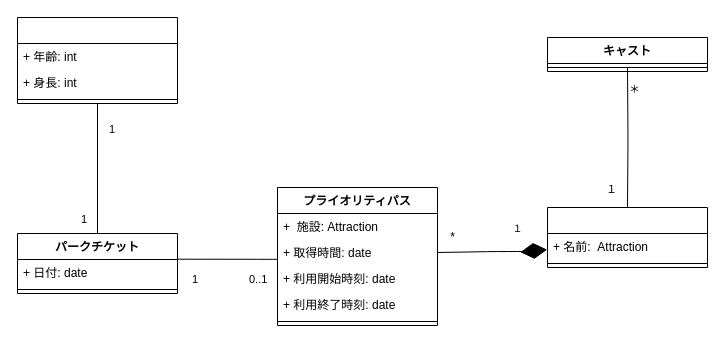
The diagram is 725 pixels wide and 343 high, and some of its shapes have lost their labels. Each missing label, with the box of its shape:
ユーザー: (16, 16, 178, 104)
施設: (546, 206, 708, 268)
